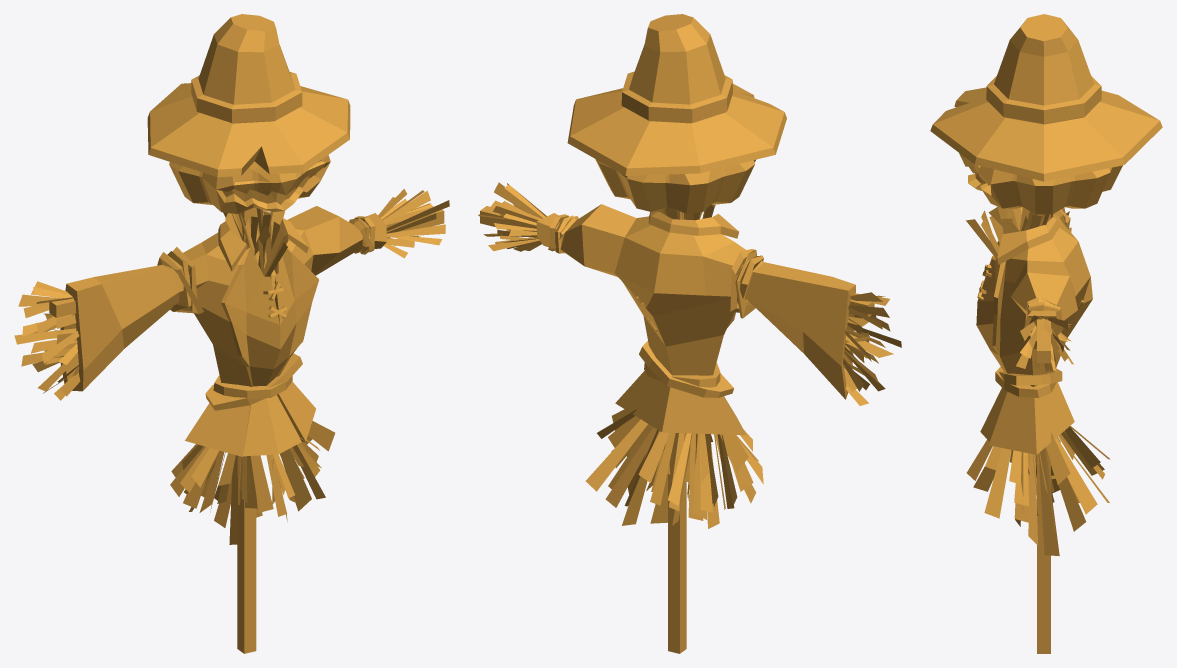
Rendered from scarecrow-b.fbx.
The picture shows the model from 3 angles, left to right: view 1: azimuth 30°, elevation 25°; view 2: azimuth 150°, elevation 25°; view 3: azimuth 270°, elevation 25°; orthographic projection.
Parts seen in each view (by area): view 1: scarecrow-b; view 2: scarecrow-b; view 3: scarecrow-b.
Part boxes in pixels (bbox=[...]): scarecrow-b: bbox=[14, 14, 449, 653]; scarecrow-b: bbox=[478, 14, 901, 653]; scarecrow-b: bbox=[930, 14, 1162, 653].
Bounding box in the file's own units: 1.39 × 2 × 0.6685.
